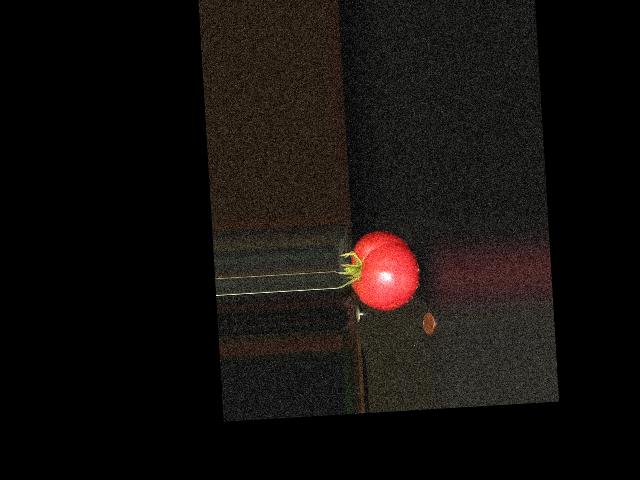tomato: (348, 228, 422, 312)
